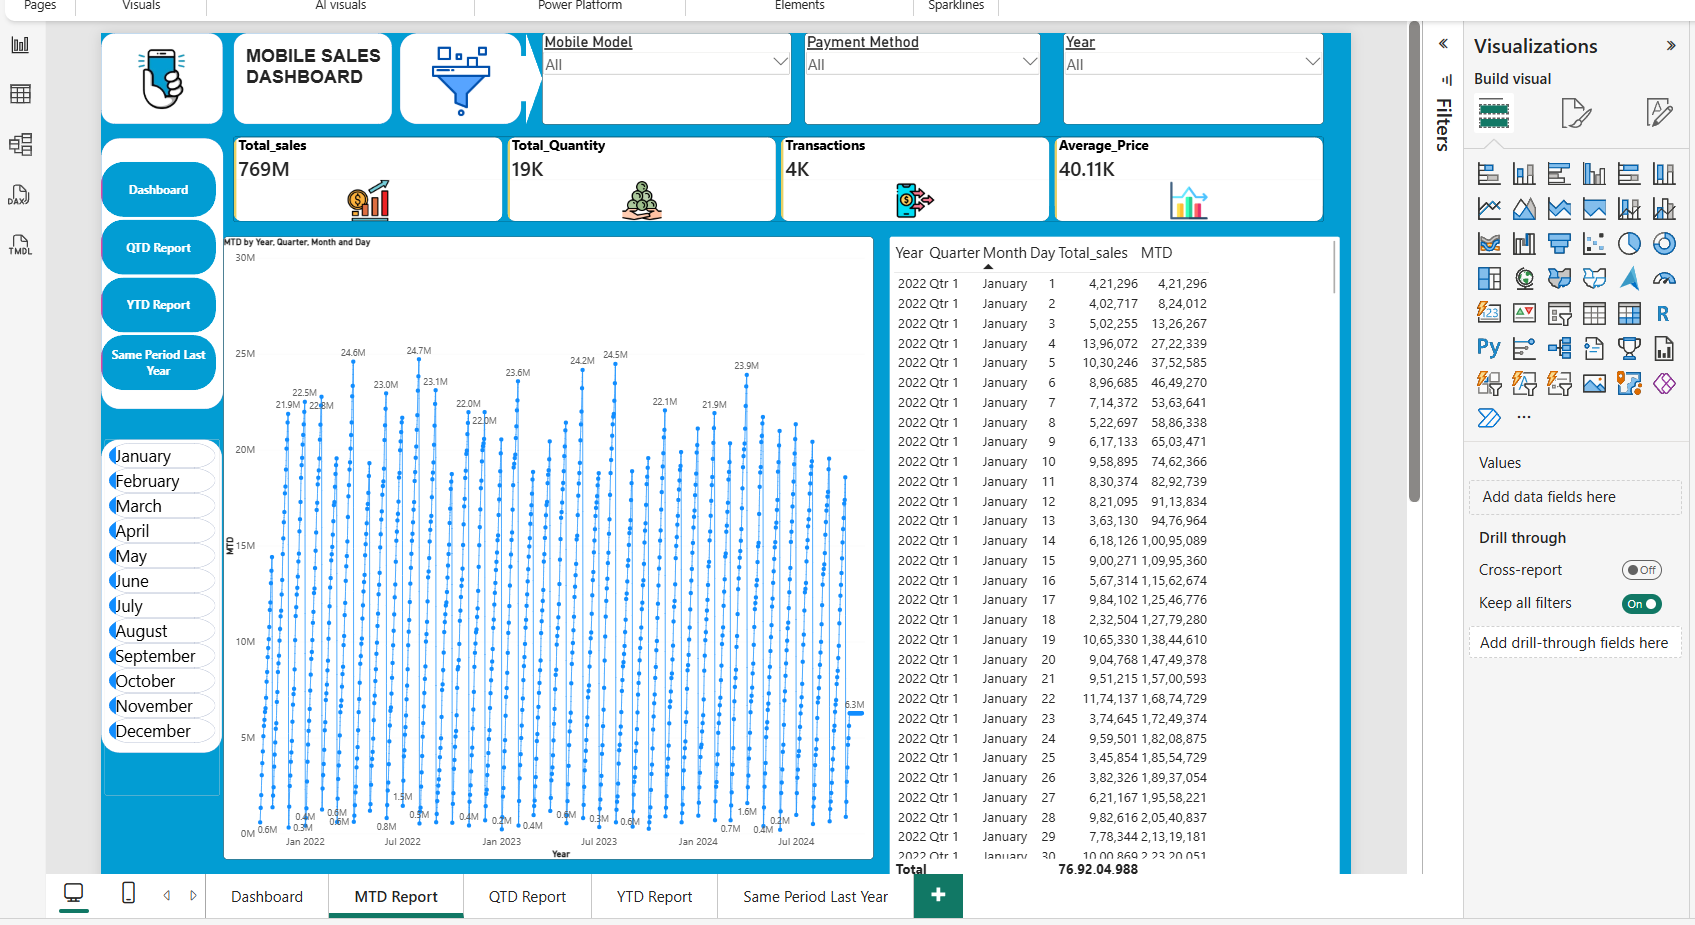

This screenshot's page, from the dashboard's own definition file:
{"tool":"powerbi","page":{"name":"MTD Report ","canvas":[5000,6000],"ordinal":1},"visuals":[{"type":"shape","box":[0,0,487.8,364.5],"z":0},{"type":"image","box":[26.8,26.8,434.2,310.9],"z":1000},{"type":"shape","box":[0,420,490,1085],"z":2000},{"type":"shape","box":[0,1625,485,1255],"z":3000},{"type":"listSlicer","fields":{"Values":["Custom Calender.Date.Variation.Date Hierarchy.Month"]},"box":[15,1625,460,1425],"z":4000},{"type":"cardVisual","fields":{"Data":["Mobile Sales Data.Total_sales","Mobile Sales Data.Total_Quantity","Mobile Sales Data.Transactions","Mobile Sales Data.Average_Price"]},"box":[530,415,4360,340],"z":5000},{"type":"slicer","fields":{"Values":["Mobile Sales Data.Mobile Model"]},"box":[1765.2,0,995.7,365.2],"z":6000},{"type":"slicer","fields":{"Values":["Mobile Sales Data.Payment Method"]},"box":[2813,0,943.5,365.2],"z":7000},{"type":"shape","box":[1195.7,0,487,365.2],"z":8000},{"type":"slicer","fields":{"Values":["Custom Calender.Date.Variation.Date Hierarchy.Year"]},"box":[3850,0,1040,365],"z":9000},{"type":"image","box":[1243.5,52.2,391.3,287],"z":10000},{"type":"shape","box":[1634.8,0,130.4,365.2],"z":11000},{"type":"shape","box":[530.4,0,634.8,365.2],"z":12000},{"type":"textbox","box":[578.3,52.2,556.5,287],"z":14000},{"type":"lineChart","title":"MTD by Year, Quarter, Month and Day","fields":{"Y":["Mobile Sales Data.MTD"],"Category":["Custom Calender.Date.Variation.Date Hierarchy.Year","Custom Calender.Date.Variation.Date Hierarchy.Quarter","Custom Calender.Date.Variation.Date Hierarchy.Month","Custom Calender.Date.Variation.Date Hierarchy.Day"]},"box":[490,815,2600,2490],"z":15000},{"type":"tableEx","fields":{"Values":["Custom Calender.Date.Variation.Date Hierarchy.Year","Custom Calender.Date.Variation.Date Hierarchy.Quarter","Custom Calender.Date.Variation.Date Hierarchy.Month","Custom Calender.Date.Variation.Date Hierarchy.Day","Mobile Sales Data.Total_sales","Mobile Sales Data.MTD"]},"box":[3155,815,1800,2585],"z":16000},{"type":"pageNavigator","box":[0,515,460,915],"z":17000}]}

Visuals, with their boxes on the page's 5000x6000 design canvas (x1, y1, x2, y2). These are canvas units, not pixel positions in the 1695x925 screenshot, which may show the page scaled, cropped or inside an application window:
shape: pyautogui.locateOnScreen(0, 0, 488, 364)
image: pyautogui.locateOnScreen(27, 27, 461, 338)
shape: pyautogui.locateOnScreen(0, 420, 490, 1505)
shape: pyautogui.locateOnScreen(0, 1625, 485, 2880)
listSlicer - Custom Calender.Date.Variation.Date Hierarchy.Month: pyautogui.locateOnScreen(15, 1625, 475, 3050)
cardVisual - Mobile Sales Data.Total_sales x Mobile Sales Data.Total_Quantity: pyautogui.locateOnScreen(530, 415, 4890, 755)
slicer - Mobile Sales Data.Mobile Model: pyautogui.locateOnScreen(1765, 0, 2761, 365)
slicer - Mobile Sales Data.Payment Method: pyautogui.locateOnScreen(2813, 0, 3756, 365)
shape: pyautogui.locateOnScreen(1196, 0, 1683, 365)
slicer - Custom Calender.Date.Variation.Date Hierarchy.Year: pyautogui.locateOnScreen(3850, 0, 4890, 365)
image: pyautogui.locateOnScreen(1244, 52, 1635, 339)
shape: pyautogui.locateOnScreen(1635, 0, 1765, 365)
shape: pyautogui.locateOnScreen(530, 0, 1165, 365)
textbox: pyautogui.locateOnScreen(578, 52, 1135, 339)
"MTD by Year, Quarter, Month and Day" lineChart: pyautogui.locateOnScreen(490, 815, 3090, 3305)
tableEx - Custom Calender.Date.Variation.Date Hierarchy.Year x Custom Calender.Date.Variation.Date Hierarchy.Quarter: pyautogui.locateOnScreen(3155, 815, 4955, 3400)
pageNavigator: pyautogui.locateOnScreen(0, 515, 460, 1430)
